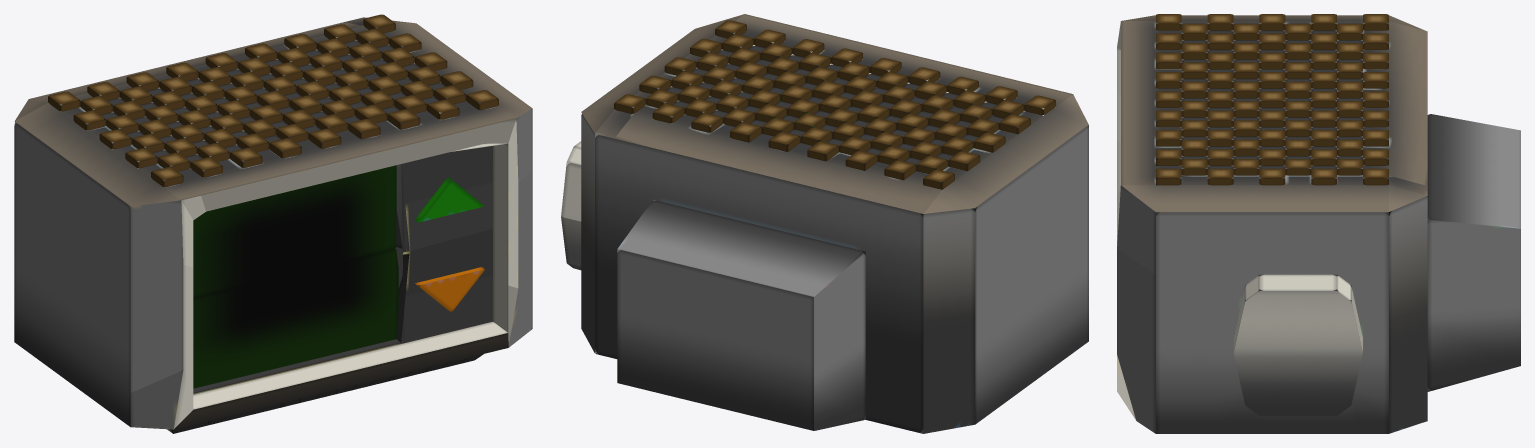
File: scoreClock.fbx
3 views of the same model, side by side, from view 1: azimuth 30°, elevation 25°; view 2: azimuth 150°, elevation 25°; view 3: azimuth 270°, elevation 25° (orthographic). The views are drawn at different scales.
Parts seen in each view (by area): view 1: beveled_cuboid, plane_1, plane, cuboid, cuboid_1; view 2: beveled_cuboid; view 3: beveled_cuboid.
Part boxes in pixels (x1,y1,x2,y2): beveled_cuboid: (14, 14, 532, 433); plane_1: (193, 249, 398, 388); plane: (193, 165, 396, 297); cuboid: (415, 177, 483, 222); cuboid_1: (415, 267, 484, 311); beveled_cuboid: (561, 14, 1088, 433); beveled_cuboid: (1117, 14, 1520, 433).
Size of the model in its own units: 81.25 by 46.88 by 65.
Materials: 1 (1 with a texture image).
